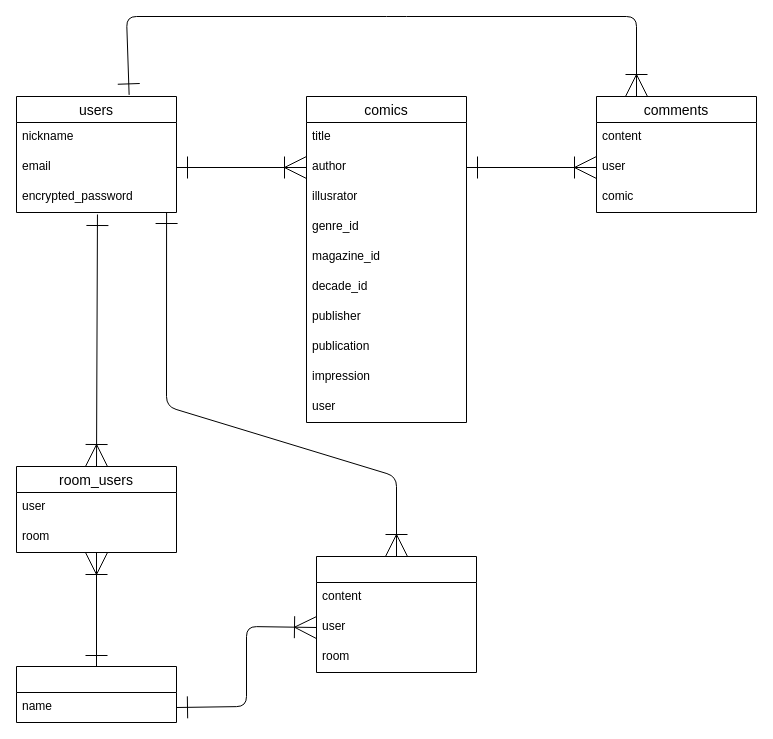
Some shapes in this 773 by 739 pixel diagram are drawn without their labels. Each missing label, with the box of its shape:
messages: (316, 556, 476, 672)
rooms: (16, 666, 176, 722)
